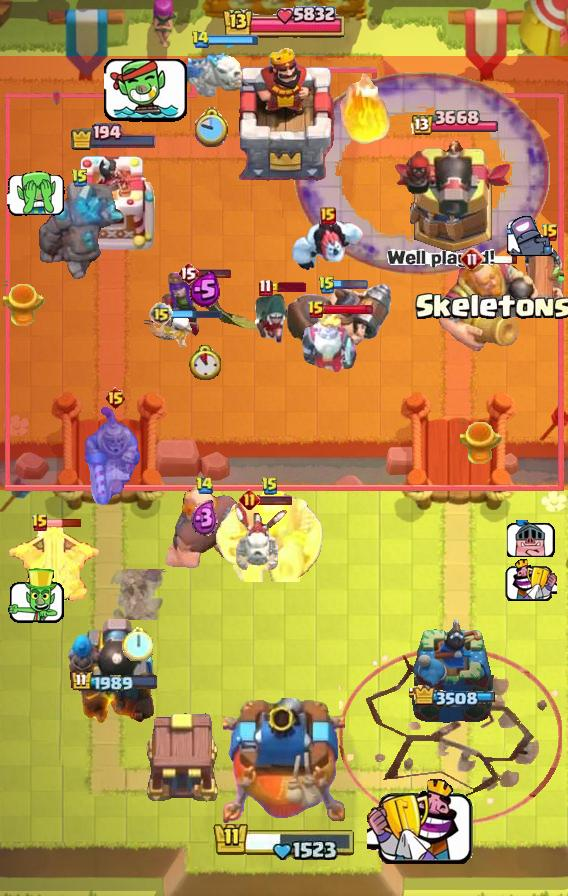balloon: (164, 486, 244, 574)
barbarian-hut: (144, 270, 266, 340)
battle-healer: (518, 242, 568, 330)
bomb: (141, 710, 221, 804)
cannoneer-tower: (35, 181, 125, 283)
clock: (212, 818, 356, 860), (221, 3, 347, 43)
electro-spirit: (189, 272, 221, 309), (191, 499, 217, 537)
elixir: (194, 107, 229, 147), (189, 345, 221, 379), (123, 627, 154, 661)
emote: (322, 303, 374, 316), (207, 34, 259, 46), (171, 308, 223, 320), (196, 267, 232, 279), (257, 494, 293, 506), (482, 255, 519, 266), (333, 278, 369, 289), (270, 282, 306, 292), (46, 518, 82, 528)
fisherman: (109, 568, 168, 619)
giant-skeleton: (432, 258, 540, 354), (215, 488, 325, 582)
guard: (338, 647, 561, 826)
heal-spirit: (164, 315, 196, 347)
king-tower: (223, 698, 345, 826), (229, 43, 339, 181)
lava-pup: (5, 523, 103, 605)
mini-pekka: (231, 499, 289, 573), (179, 39, 245, 103)
mortar-evolution: (302, 309, 358, 375)
queen-tower: (409, 616, 497, 731), (68, 150, 160, 256)
rage: (290, 215, 366, 271)
ram-rider: (85, 405, 145, 507)
rocket: (294, 72, 550, 276)
selected: (410, 110, 499, 138), (70, 123, 158, 151), (69, 670, 158, 694), (413, 685, 496, 708)
skeleton: (367, 778, 474, 864), (104, 56, 190, 126), (6, 568, 66, 626), (7, 170, 65, 216), (505, 559, 557, 601), (507, 216, 555, 258), (508, 519, 557, 556)
tesla: (253, 292, 305, 346)
text: (460, 247, 484, 271), (149, 302, 173, 326), (104, 386, 127, 410), (177, 261, 199, 285), (240, 490, 261, 511), (194, 477, 214, 496), (71, 168, 89, 188), (541, 223, 559, 243), (318, 275, 336, 295), (307, 300, 325, 320), (261, 476, 279, 496), (31, 513, 49, 533), (191, 31, 210, 49), (320, 207, 336, 225), (259, 279, 273, 298)
tower-bar: (392, 138, 514, 256), (67, 611, 161, 731)
valkyrie: (333, 59, 393, 149)
wizard: (283, 281, 395, 351)
